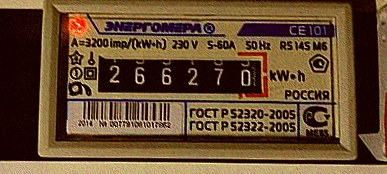0: (238, 65, 251, 87)
2: (106, 62, 121, 83), (185, 64, 198, 86)
6: (132, 64, 146, 84), (158, 65, 172, 84)
7: (210, 65, 224, 86)
screen: (87, 43, 275, 104)
